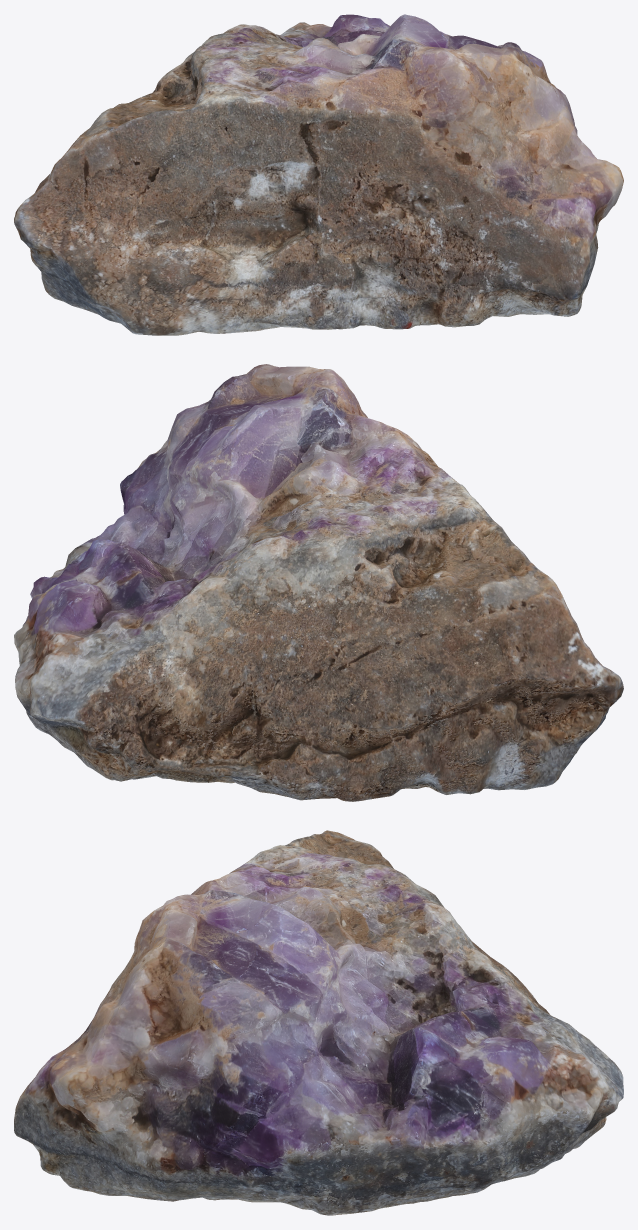
The model's file is fluorita_small.glb.
3 renders of one model, top to bottom at view 1: azimuth 30°, elevation 25°; view 2: azimuth 150°, elevation 25°; view 3: azimuth 270°, elevation 25°, orthographic. The views are drawn at different scales.
Parts seen in each view (by area): view 1: Model; view 2: Model; view 3: Model.
Boxes of the visible parts, x1,y1,x2,y2 form: Model: [14, 14, 623, 335]; Model: [14, 364, 623, 801]; Model: [14, 830, 623, 1215].
Size of the model in its own units: 1.69 by 0.7699 by 1.68.
4 materials, 4 textured.
